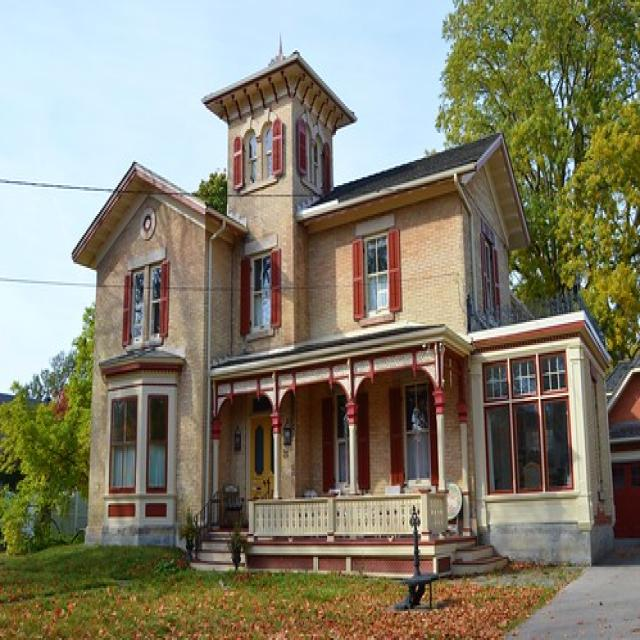building: (70, 42, 634, 588)
